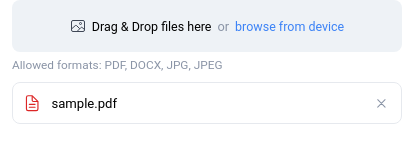
AttachmentsField › opening an attachment › explains when the file itself was never saved
Click the button "sample.pdf" at (84,103), box [51,96,357,110]
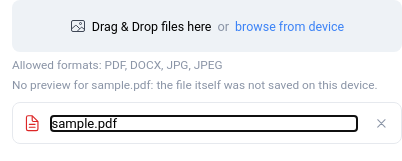
Check: the message shows "No preview for sample.pdf", box [12,78,401,92]
